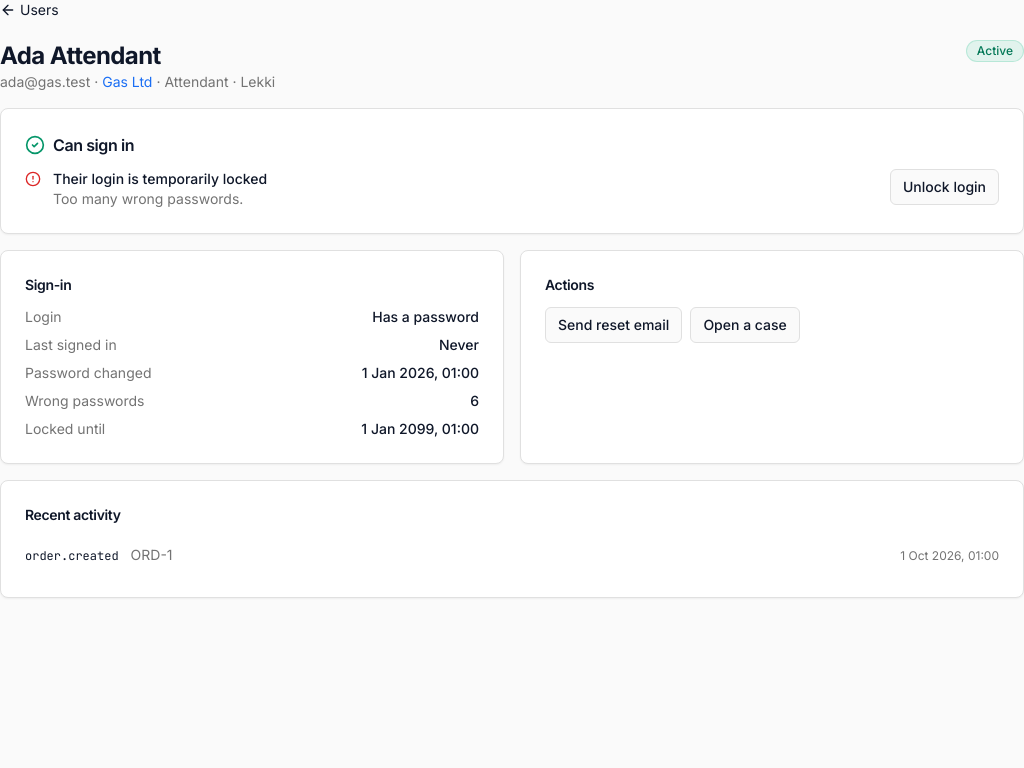
Test: UserAccess › a refused action keeps the dialog open and shows the API's reason
The image size is (1024, 768).
Click the button "Unlock login" at (944, 187), box [890,169,999,205]
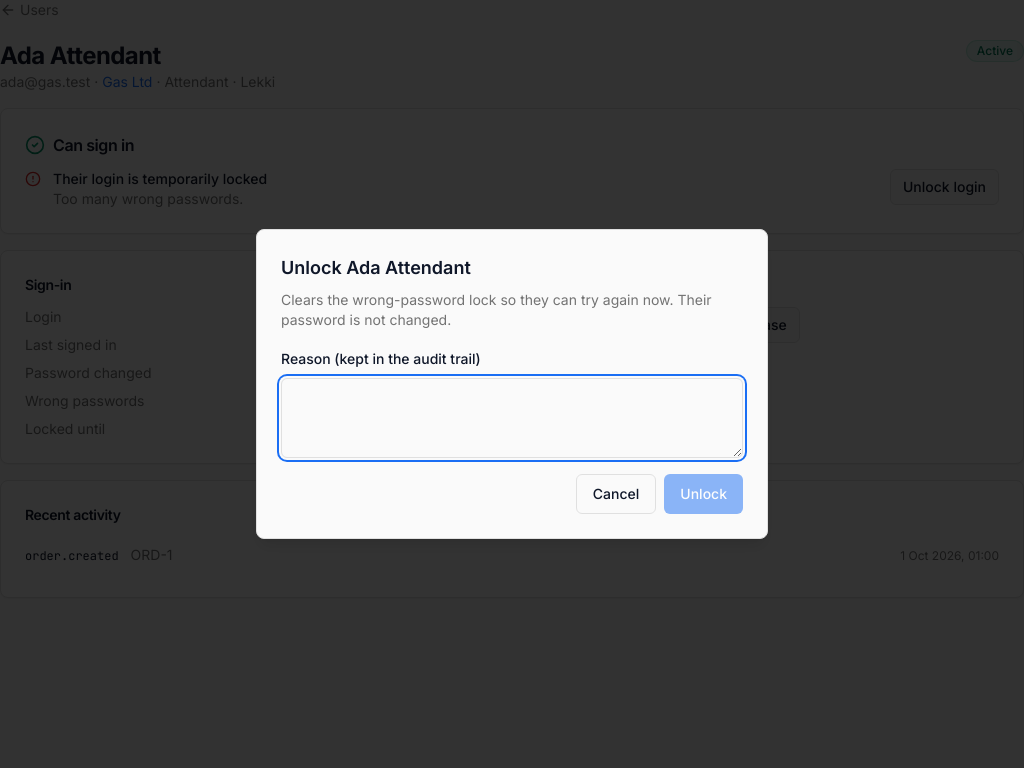
Type "because" into the text box labelled "Reason (kept in the audit trail)" at (512, 418), box [281,378,743,458]
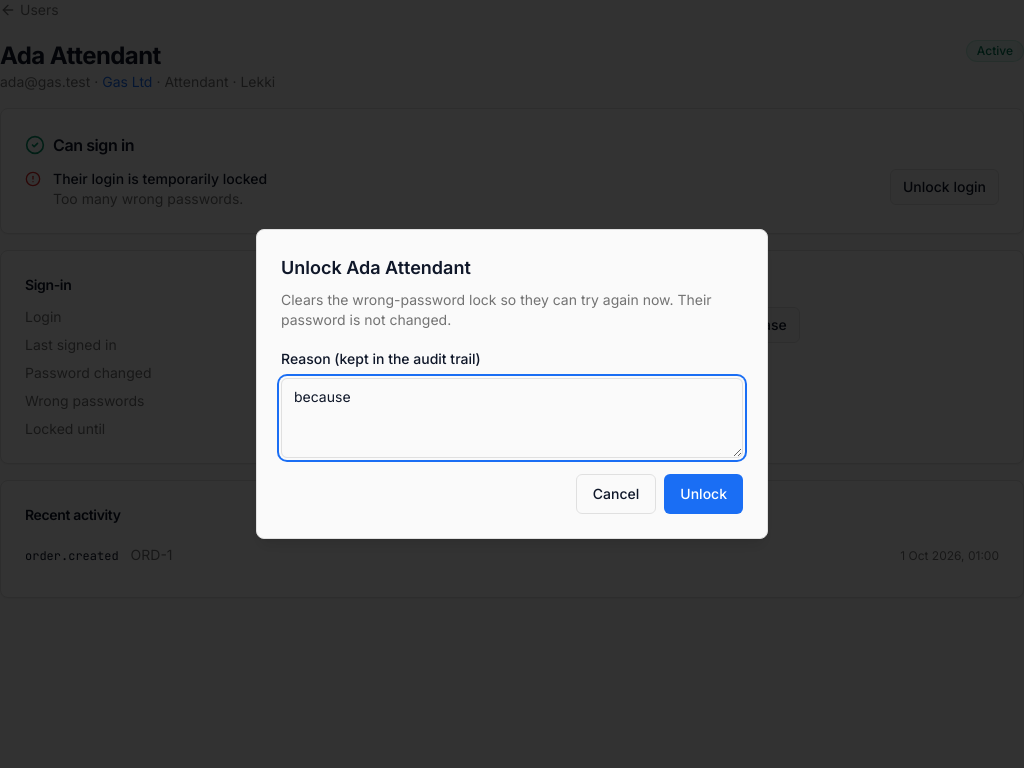
Click the button "Unlock" at (704, 494), box [664,474,743,514]
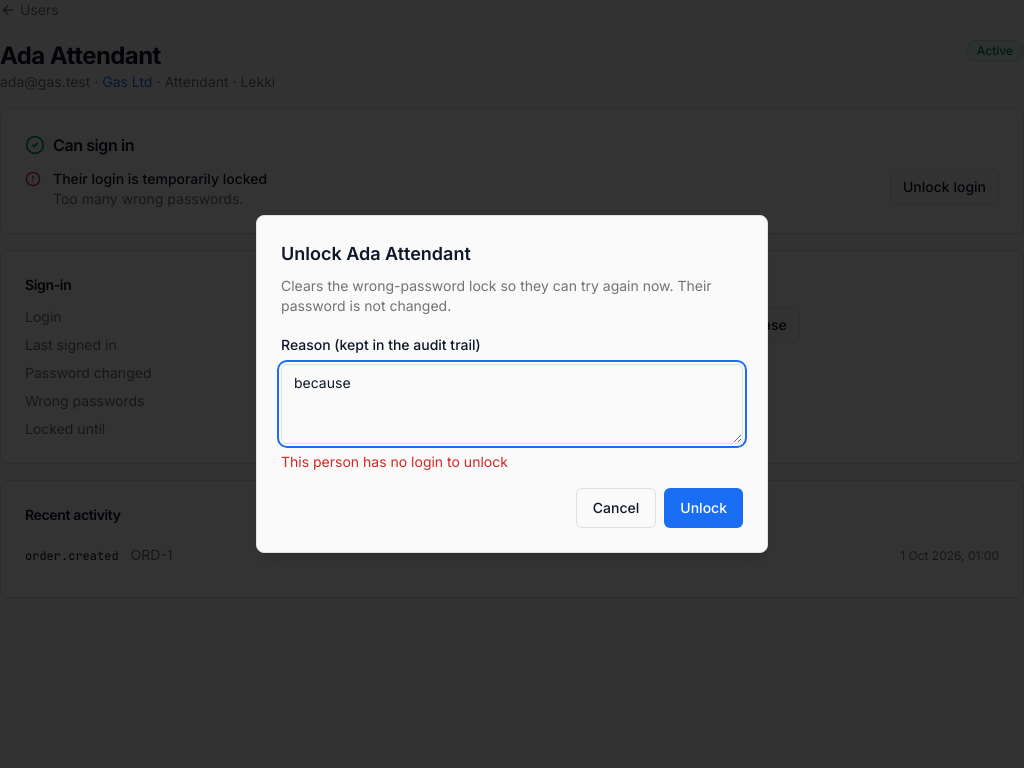
Result: the message reads "This person has no login to unlock" at [281,453,508,470]
